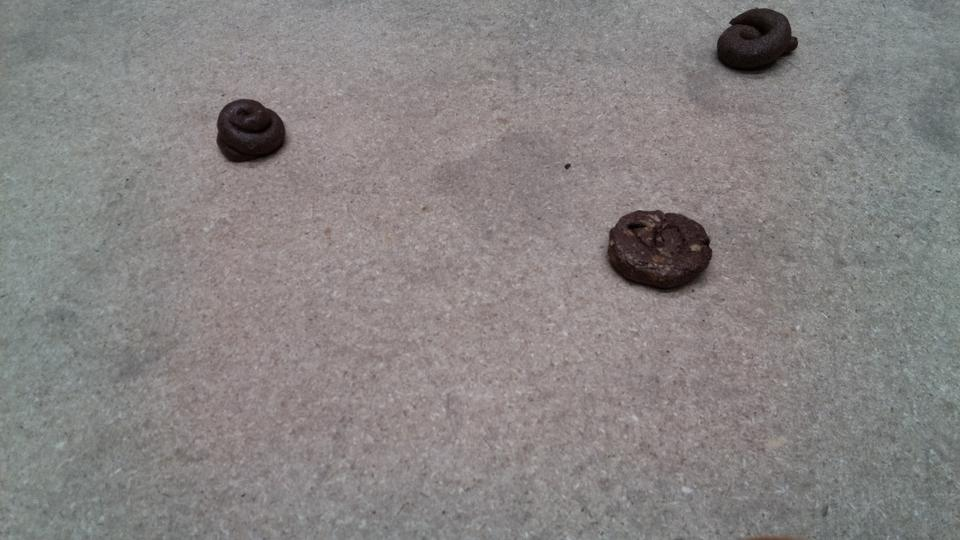poop: (606, 209, 715, 295), (715, 7, 799, 76), (215, 96, 287, 164)
